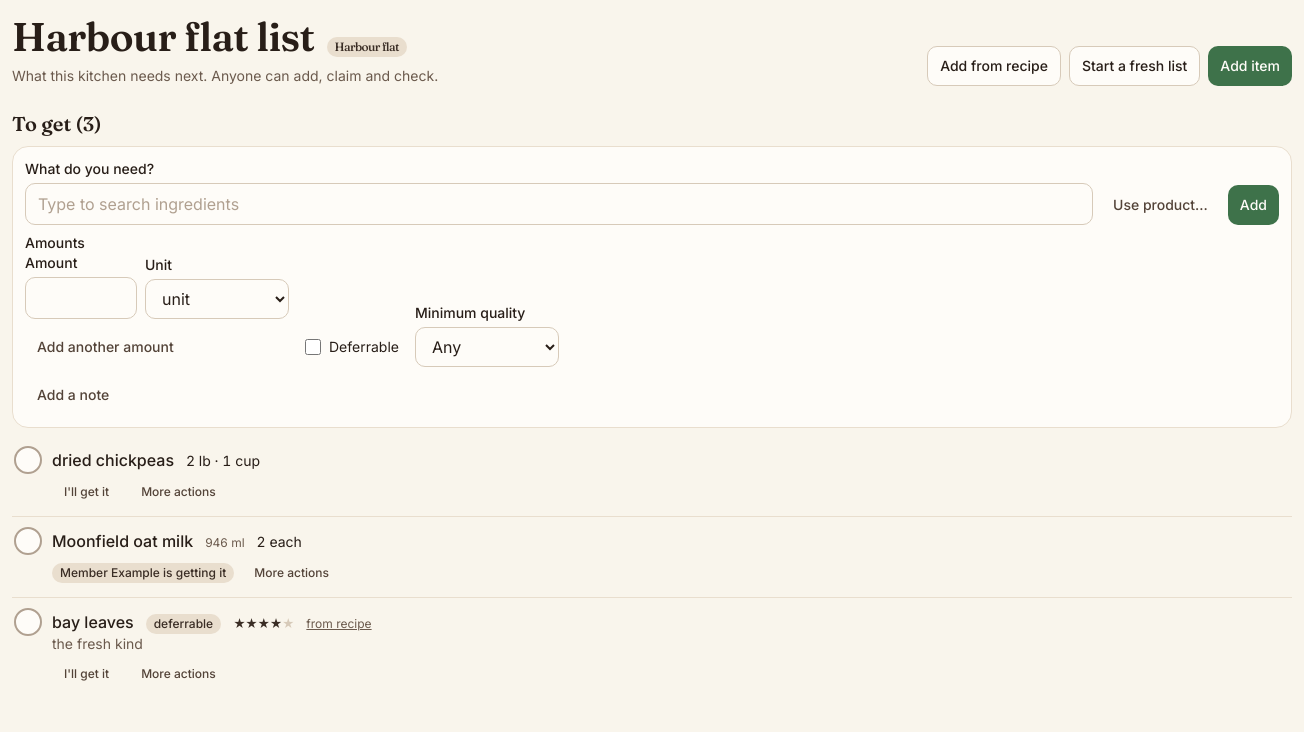
the list page: check, claim and stale edits (UI-8.6) › puts the row back when the server refuses the check
Step 1. Click the checkbox named "Check dried chickpeas" → (28, 460), box [12,444,44,476]
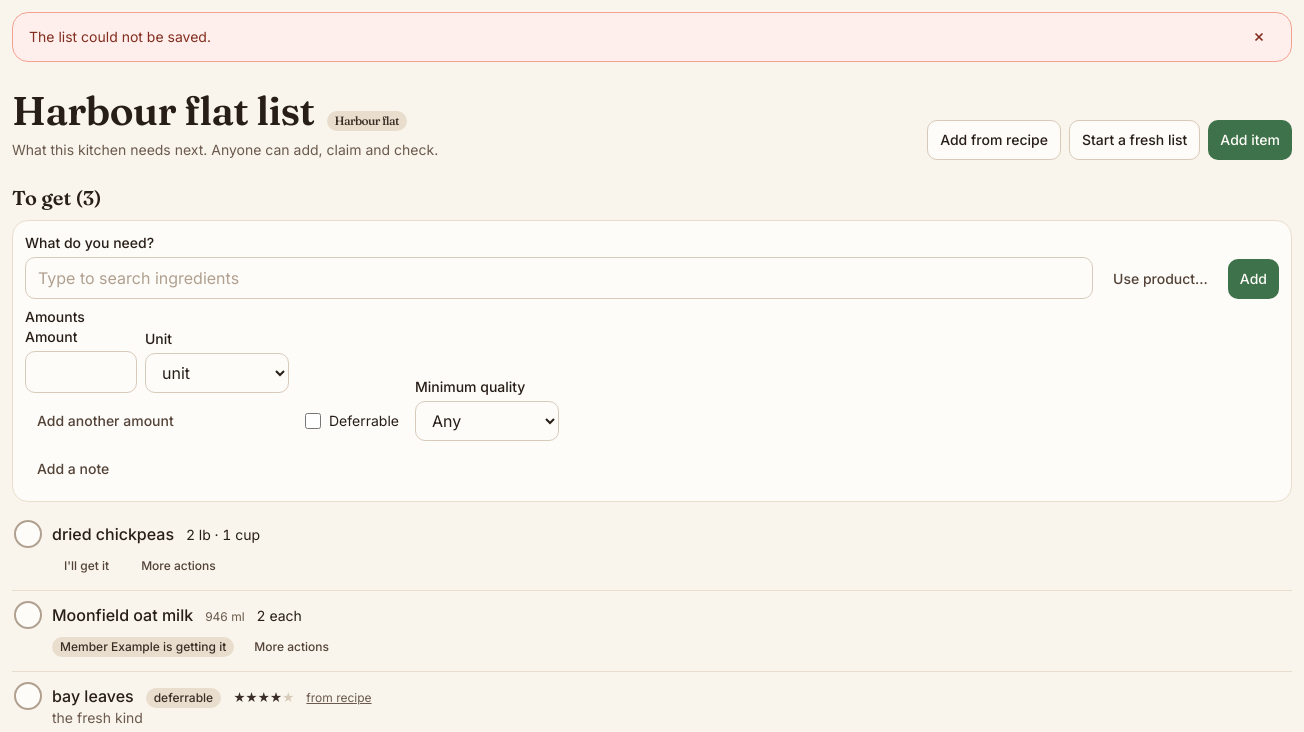
Expected: the heading "To get (3)" is shown, [12,185,101,210]
Now the message with test id "notice" reads "The list could not be saved.", box [29,28,211,45]
